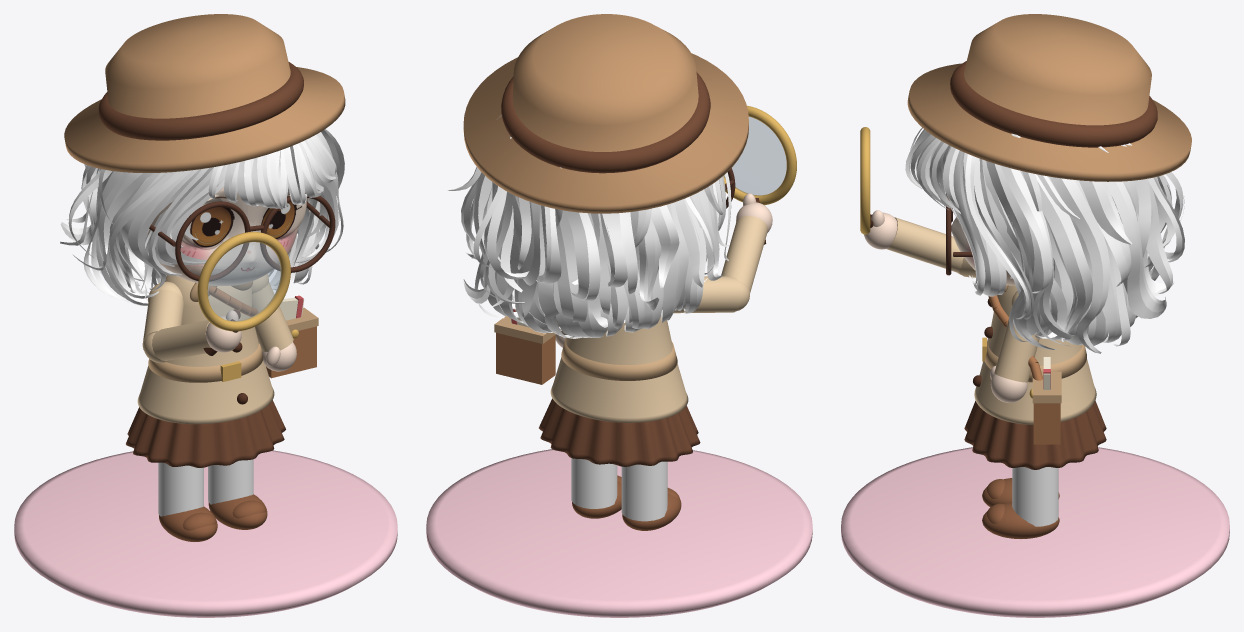
The model's file is icafixed.glb.
3 renders of one model, left to right at view 1: azimuth 30°, elevation 25°; view 2: azimuth 150°, elevation 25°; view 3: azimuth 270°, elevation 25°, orthographic.
Parts seen in each view (by area): view 1: pedestal, hat, hair_glb, trench_coat, skirt, face_patch, hat_band, magnifier_glass, magnifier_ring, sock_R, sleeve_R_fore, sock_L (+9 smaller); view 2: pedestal, hat, hair_glb, trench_coat, skirt, hat_band, magnifier_glass, sock_R, bag, sleeve_R_fore, sock_L, belt (+5 smaller); view 3: pedestal, hair_glb, hat, skirt, hat_band, trench_coat, sock_L, sleeve_R_fore, sleeve_L, shoe_L, bag, magnifier_ring (+5 smaller).
Boxes of the visible parts, x1=… form: pedestal: x1=14, y1=450, x2=397, y2=617; hat: x1=64, y1=14, x2=345, y2=172; hair_glb: x1=60, y1=129, x2=344, y2=305; trench_coat: x1=137, y1=275, x2=274, y2=424; skirt: x1=126, y1=400, x2=285, y2=467; face_patch: x1=148, y1=190, x2=309, y2=285; hat_band: x1=98, y1=62, x2=303, y2=140; magnifier_glass: x1=208, y1=242, x2=281, y2=321; magnifier_ring: x1=197, y1=231, x2=290, y2=331; sock_R: x1=158, y1=462, x2=203, y2=516; sleeve_R_fore: x1=152, y1=320, x2=211, y2=361; sock_L: x1=208, y1=459, x2=253, y2=504; pedestal: x1=426, y1=449, x2=812, y2=617; hat: x1=463, y1=14, x2=748, y2=213; hair_glb: x1=447, y1=115, x2=731, y2=338; trench_coat: x1=550, y1=314, x2=688, y2=422; skirt: x1=539, y1=398, x2=700, y2=466; hat_band: x1=501, y1=72, x2=710, y2=173; magnifier_glass: x1=723, y1=117, x2=786, y2=195; sock_R: x1=621, y1=461, x2=667, y2=521; bag: x1=496, y1=332, x2=555, y2=384; sleeve_R_fore: x1=721, y1=216, x2=767, y2=292; sock_L: x1=571, y1=458, x2=617, y2=508; belt: x1=561, y1=337, x2=677, y2=380; pedestal: x1=841, y1=447, x2=1229, y2=617; hair_glb: x1=905, y1=127, x2=1184, y2=353; hat: x1=907, y1=14, x2=1191, y2=181; skirt: x1=964, y1=401, x2=1106, y2=469; hat_band: x1=950, y1=61, x2=1157, y2=147; trench_coat: x1=974, y1=285, x2=1096, y2=424; sock_L: x1=1012, y1=467, x2=1058, y2=526; sleeve_R_fore: x1=886, y1=217, x2=963, y2=272; sleeve_L: x1=994, y1=318, x2=1039, y2=382; shoe_L: x1=982, y1=502, x2=1059, y2=538; bag: x1=1033, y1=403, x2=1060, y2=444; magnifier_ring: x1=860, y1=127, x2=870, y2=234.
Size of the model in its own units: 4 by 5.8 by 4.
Materials: 19 (1 with a texture image).
